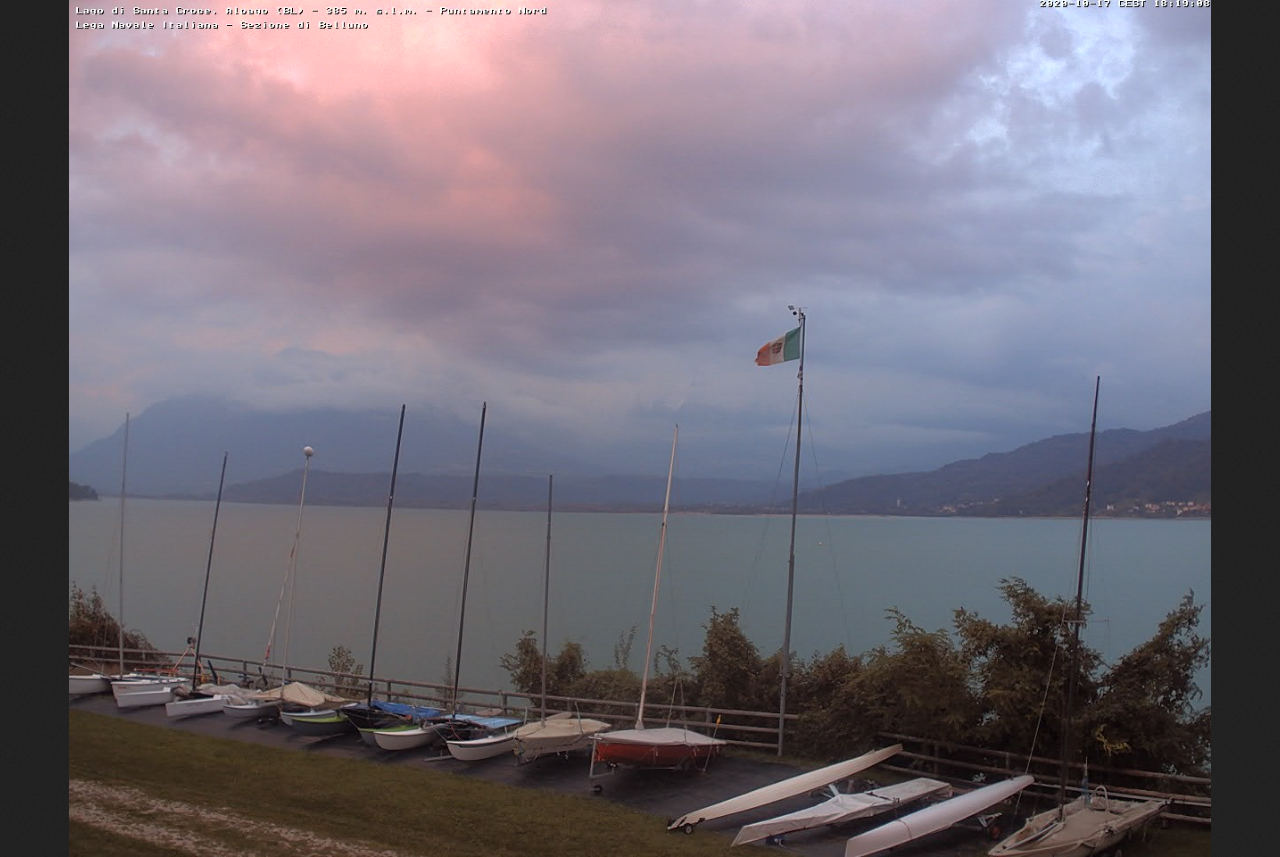yes: (757, 324, 802, 369)
